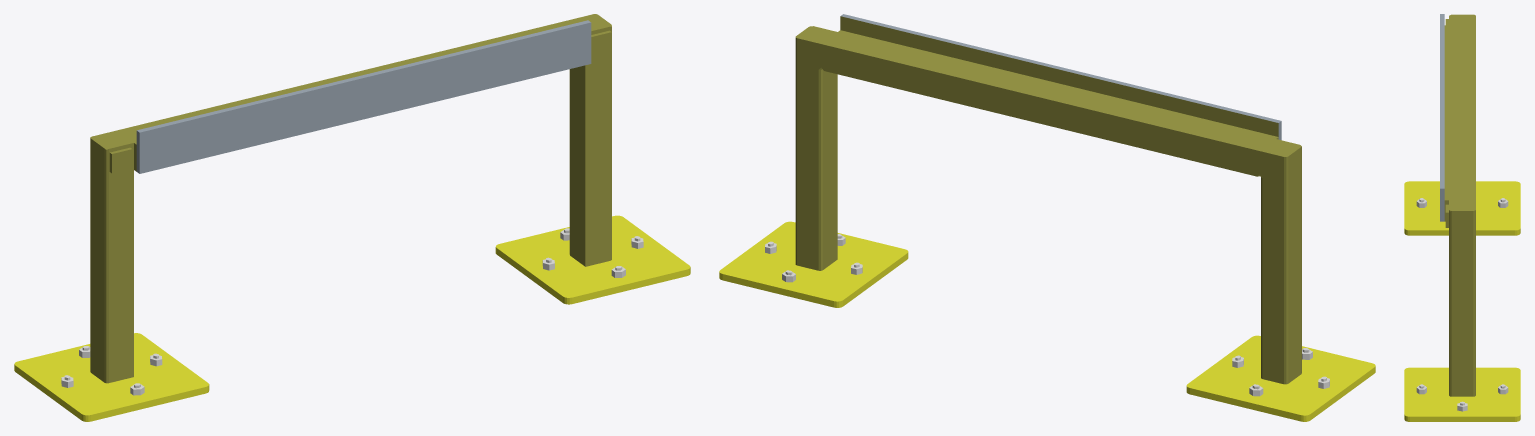
The model's file is GamesE_E03_marco de seguridad.fbx.
3 views of the same model, side by side, from view 1: azimuth 30°, elevation 25°; view 2: azimuth 150°, elevation 25°; view 3: azimuth 270°, elevation 25° (orthographic). The views are drawn at different scales.
Visible parts, largest first — view 1: marco, base; view 2: marco, base; view 3: marco, base.
Part boxes in pixels (x1=…): marco: x1=90, y1=14, x2=611, y2=383; base: x1=14, y1=215, x2=690, y2=421; marco: x1=795, y1=14, x2=1301, y2=384; base: x1=719, y1=221, x2=1375, y2=421; marco: x1=1440, y1=14, x2=1475, y2=396; base: x1=1404, y1=181, x2=1520, y2=421.
Bounding box in the file's own units: 960 × 385 × 200.
